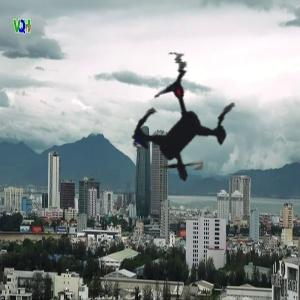drone: (76, 24, 297, 245)
